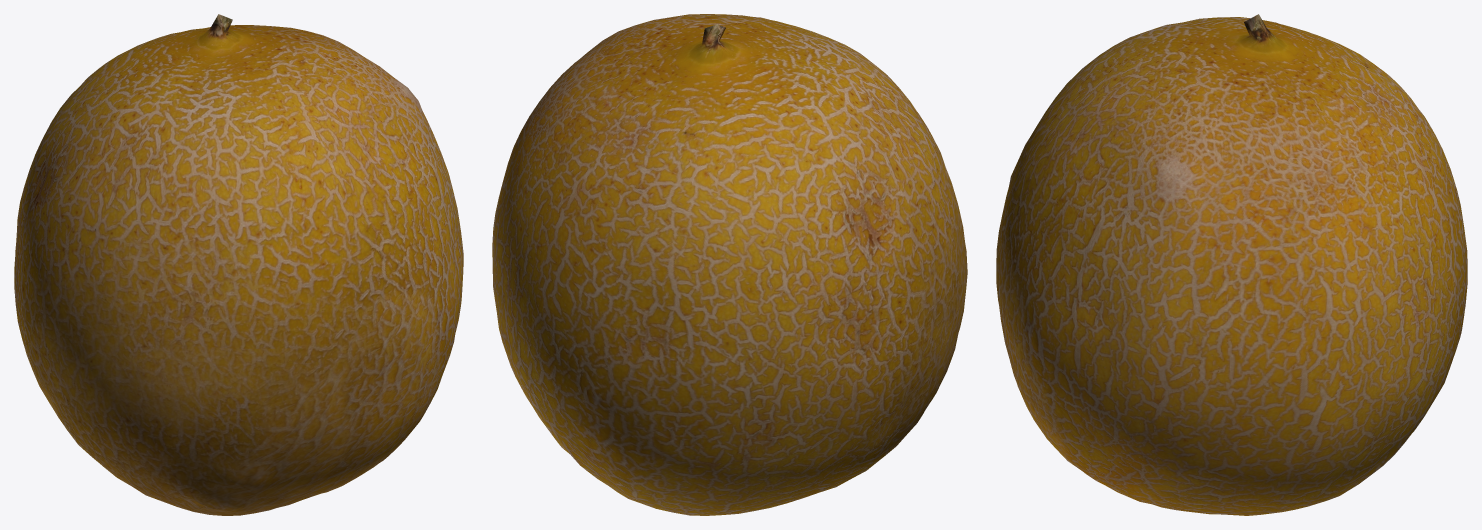
3 renders of one model, left to right at view 1: azimuth 30°, elevation 25°; view 2: azimuth 150°, elevation 25°; view 3: azimuth 270°, elevation 25°, orthographic. The views are drawn at different scales.
Parts seen in each view (by area): view 1: okashi_retopo; view 2: okashi_retopo; view 3: okashi_retopo.
Part boxes in pixels (<box>): okashi_retopo: <box>14,14,463,515</box>; okashi_retopo: <box>492,14,967,515</box>; okashi_retopo: <box>996,14,1467,515</box>.
Size of the model in its own units: 426 by 474 by 427.
1 material, 1 textured.
